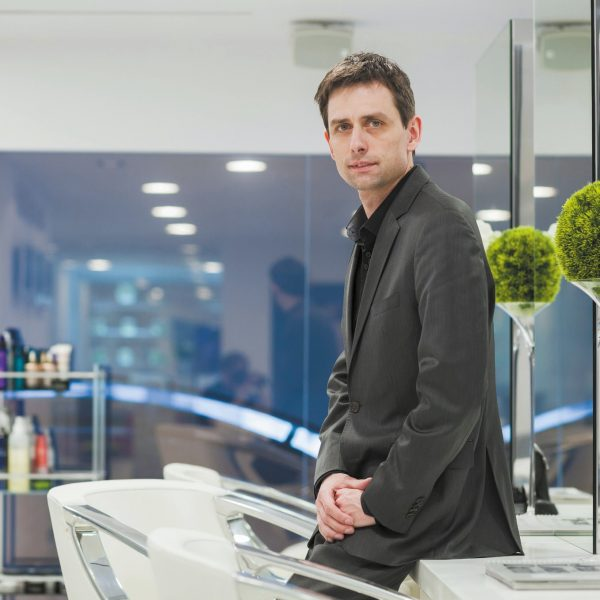without_mask: (333, 104, 406, 190)
